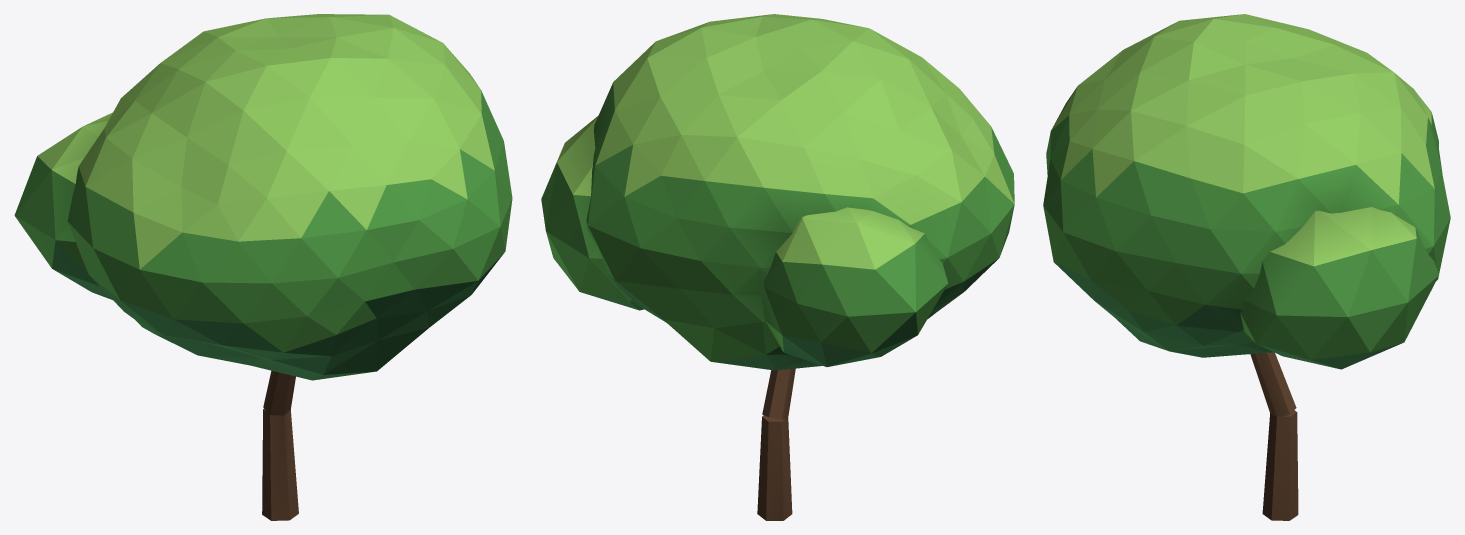
Rendered from tree_ornamental_b_small.glb.
The picture shows the model from 3 angles, left to right: view 1: azimuth 30°, elevation 25°; view 2: azimuth 150°, elevation 25°; view 3: azimuth 270°, elevation 25°; orthographic projection. The views are drawn at different scales.
Parts seen in each view (by area): view 1: Canopy, Trunk; view 2: Canopy, Trunk; view 3: Canopy, Trunk.
Part boxes in pixels (x1,y1,x2,y2): Canopy: (14,14,512,380); Trunk: (262,370,298,520); Canopy: (541,14,1014,370); Trunk: (757,368,795,520); Canopy: (1043,14,1450,369); Trunk: (1250,352,1298,520).
Size of the model in its own units: 4.2 by 4.67 by 3.63.
1 material, 1 textured.
